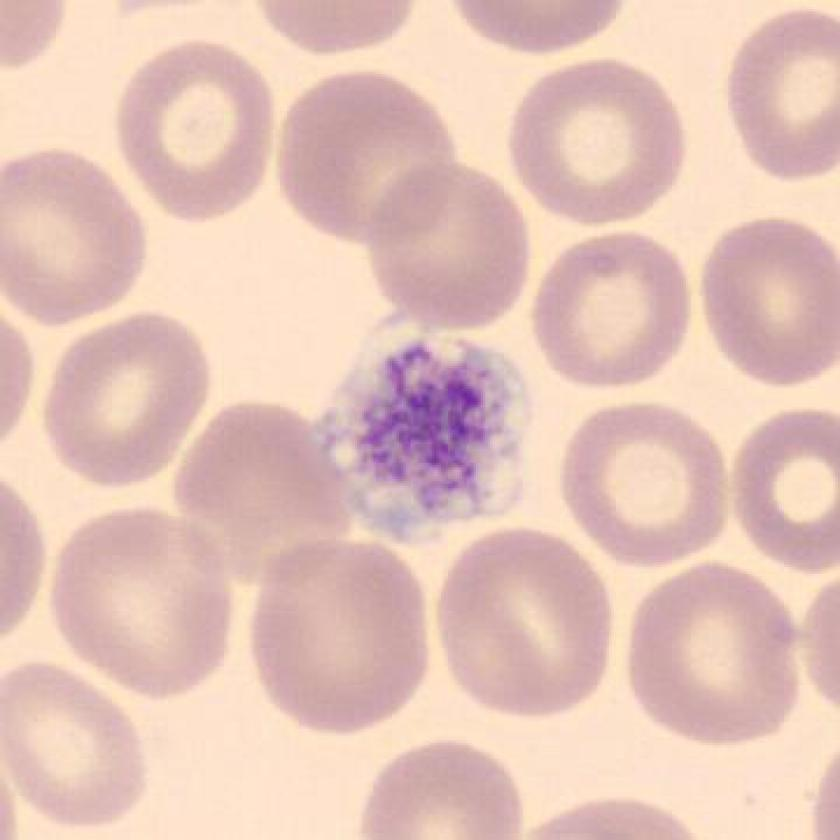platelets: (316, 320, 540, 545)
